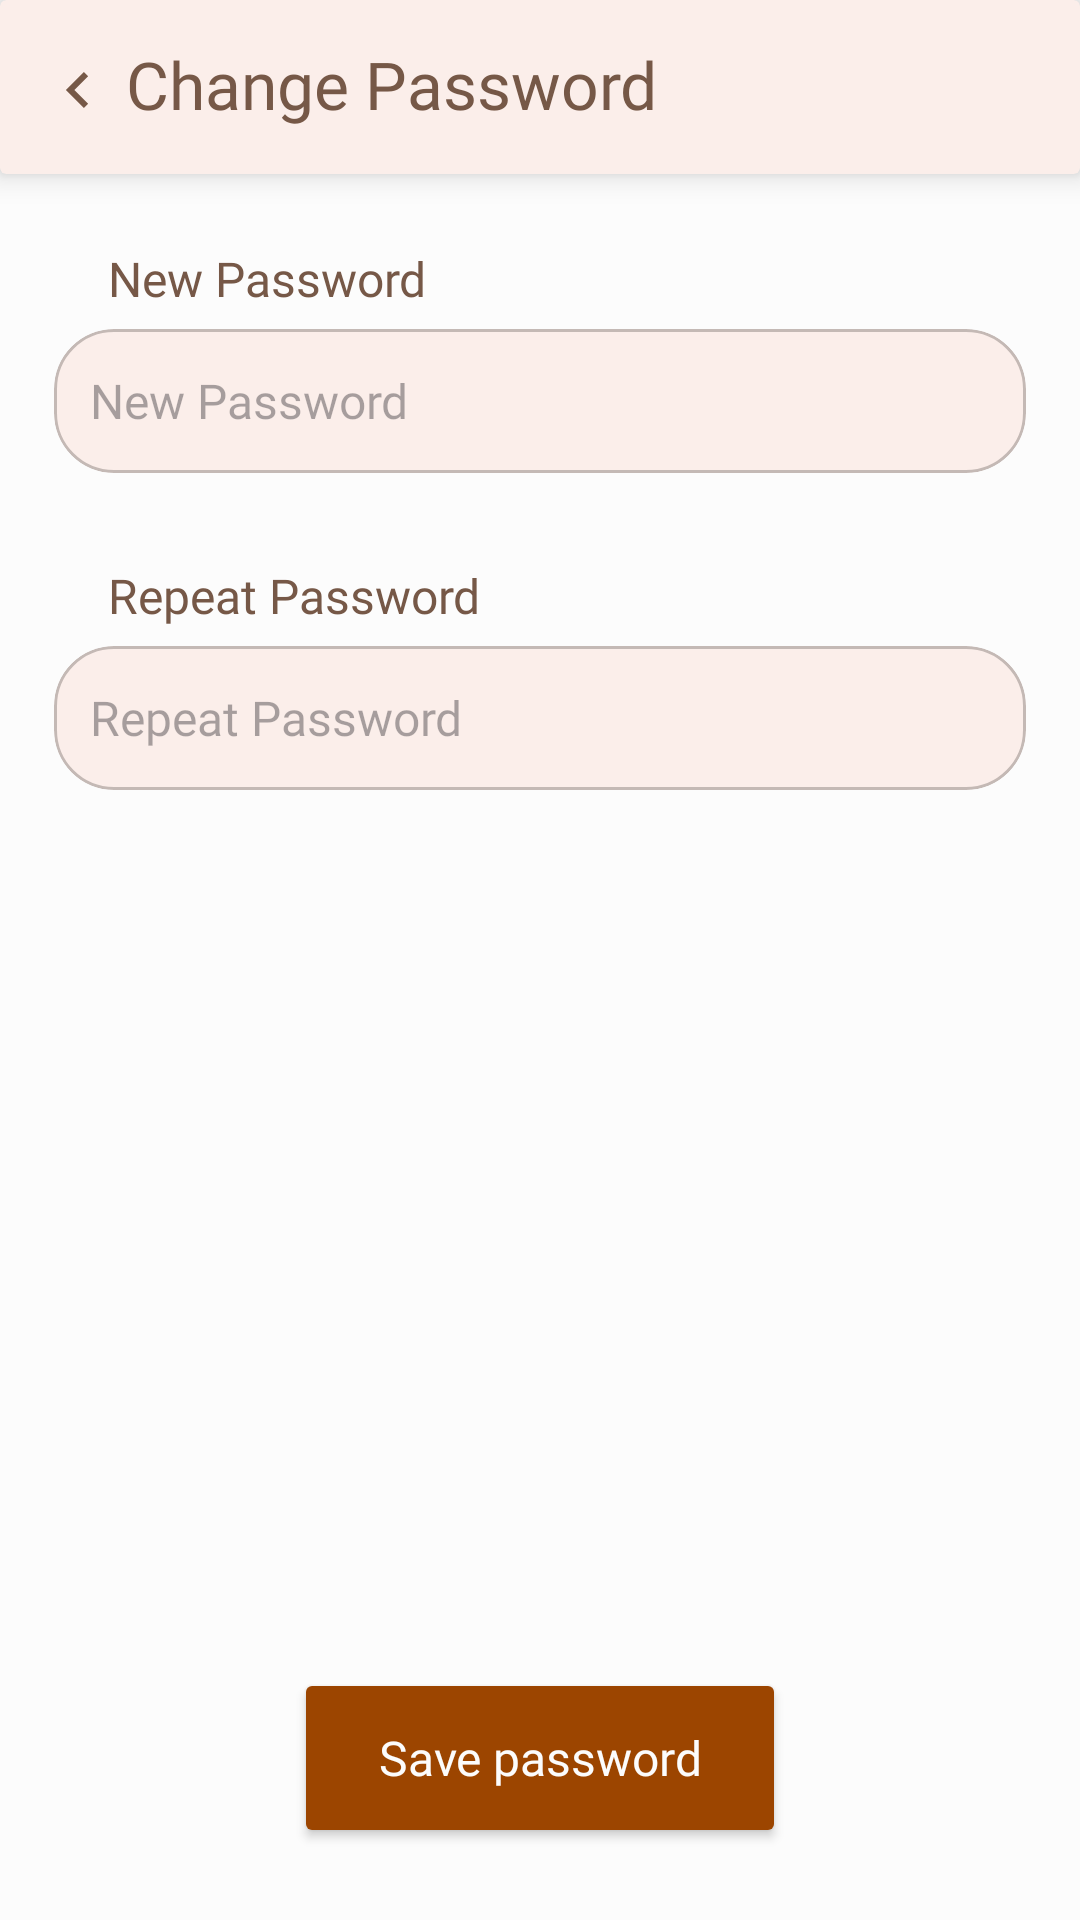

Icon bounding boxes for this 1080 × 1920 phone screenshot, format [x1, y1, x2, y2]:
arrow back: [66, 72, 88, 108]
